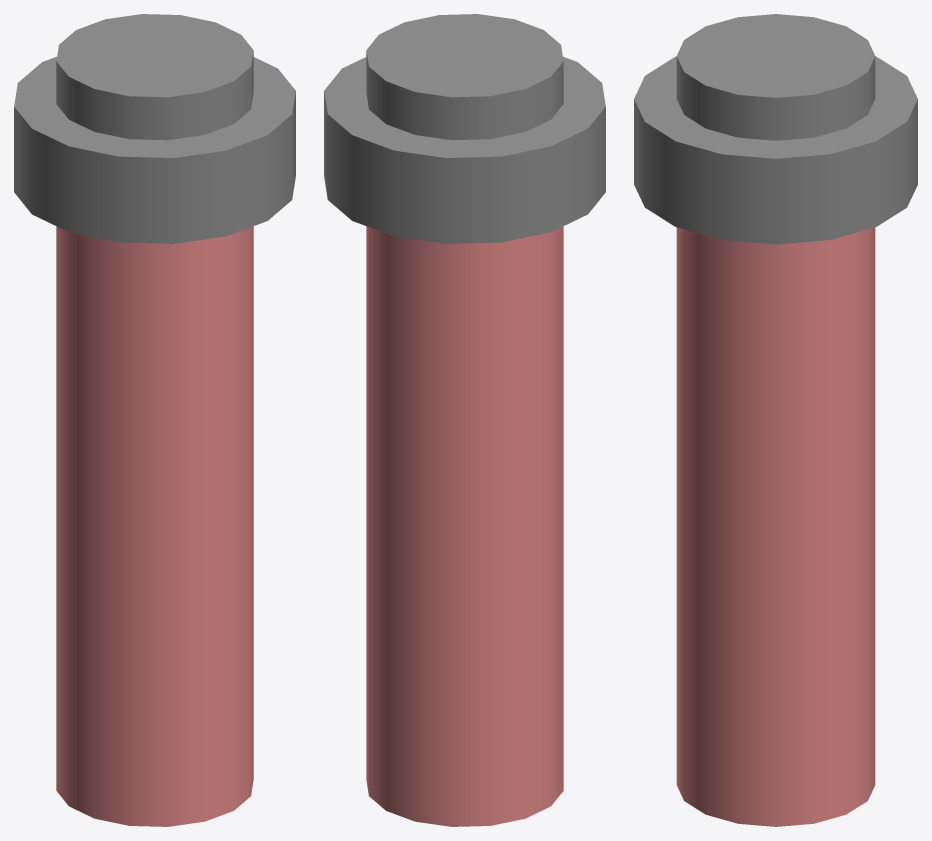
The model's file is SM_Actuator_1x1x3_Top.gltf.
3 views of the same model, side by side, from view 1: azimuth 30°, elevation 25°; view 2: azimuth 150°, elevation 25°; view 3: azimuth 270°, elevation 25° (orthographic).
Visible parts, largest first — view 1: SM_Actuator_1x1x3_Top; view 2: SM_Actuator_1x1x3_Top; view 3: SM_Actuator_1x1x3_Top.
Part boxes in pixels (x1,y1,x2,y2): SM_Actuator_1x1x3_Top: [14, 14, 295, 826]; SM_Actuator_1x1x3_Top: [324, 14, 605, 826]; SM_Actuator_1x1x3_Top: [634, 14, 917, 826].
Bounding box in the file's own units: 0.3 × 0.85 × 0.3.
